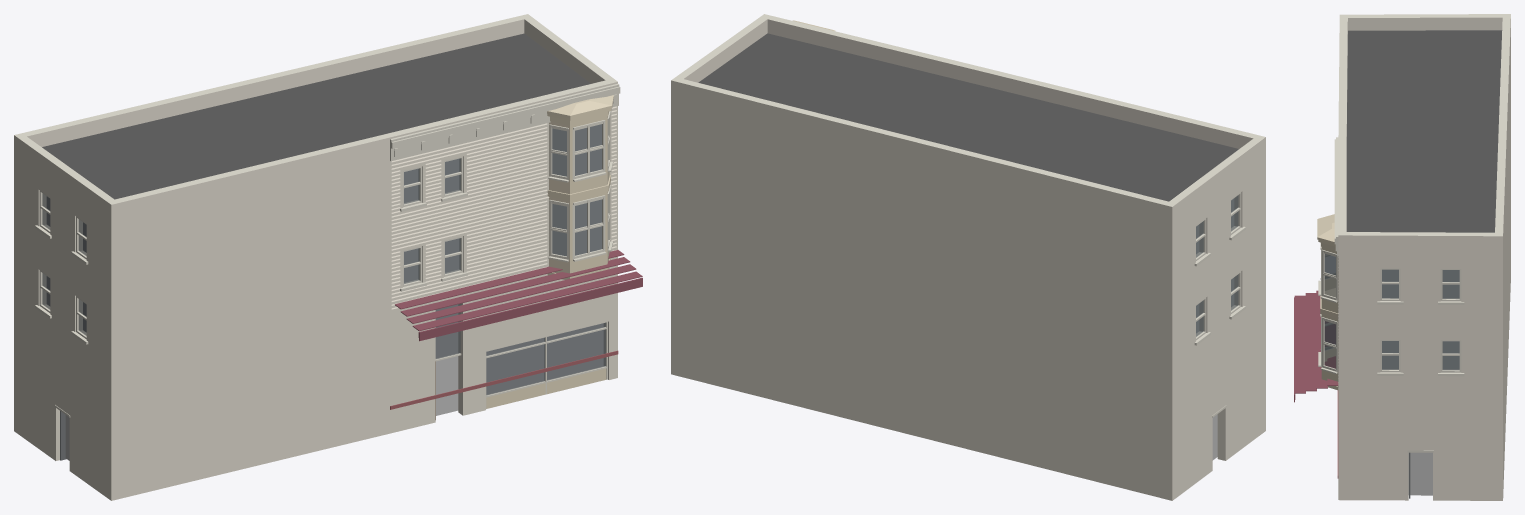
Rendered from exterior.glb.
3 views of the same model, side by side, from view 1: azimuth 30°, elevation 25°; view 2: azimuth 150°, elevation 25°; view 3: azimuth 270°, elevation 25° (orthographic). The views are drawn at different scales.
Parts seen in each view (by area): view 1: shell, roof, shadow-proxy, hyD-lap-4, glazing, bay-glazing-hyb, awning-spans-4, trim, bay-windows-hyb, storefront, awning-valance-4, frames (+1 smaller); view 2: shell, roof, glazing, frames; view 3: shell, roof, awning-spans-4, shadow-proxy, glazing, bay-glazing-hyb, bay-windows-hyb, frames, trim.
Part boxes in pixels (x1,y1,x2,y2): shell: [14, 14, 617, 500]; roof: [42, 33, 590, 199]; shadow-proxy: [47, 124, 603, 460]; hyD-lap-4: [391, 106, 616, 309]; glazing: [42, 158, 605, 395]; bay-glazing-hyb: [548, 111, 613, 262]; awning-spans-4: [395, 250, 642, 337]; trim: [35, 83, 620, 344]; bay-windows-hyb: [547, 95, 613, 279]; storefront: [54, 321, 607, 460]; awning-valance-4: [419, 278, 642, 341]; frames: [39, 156, 463, 339]; shell: [671, 14, 1265, 500]; roof: [698, 33, 1238, 201]; glazing: [1196, 195, 1238, 336]; frames: [1196, 192, 1241, 340]; shell: [1338, 14, 1510, 500]; roof: [1346, 30, 1502, 232]; awning-spans-4: [1294, 290, 1338, 399]; shadow-proxy: [1382, 270, 1459, 495]; glazing: [1382, 269, 1459, 370]; bay-glazing-hyb: [1318, 242, 1337, 374]; bay-windows-hyb: [1317, 214, 1338, 390]; frames: [1380, 268, 1461, 372]; trim: [1334, 137, 1464, 376].
Bounding box in the file's own units: 21.9 × 12.08 × 8.97.
